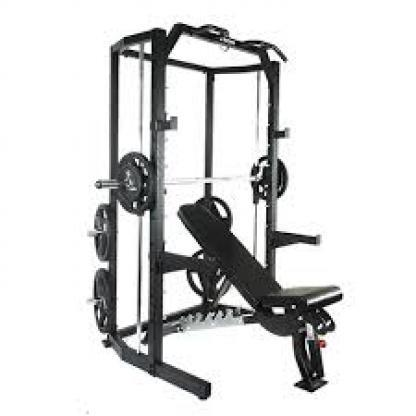smith machine: (86, 22, 344, 400)
